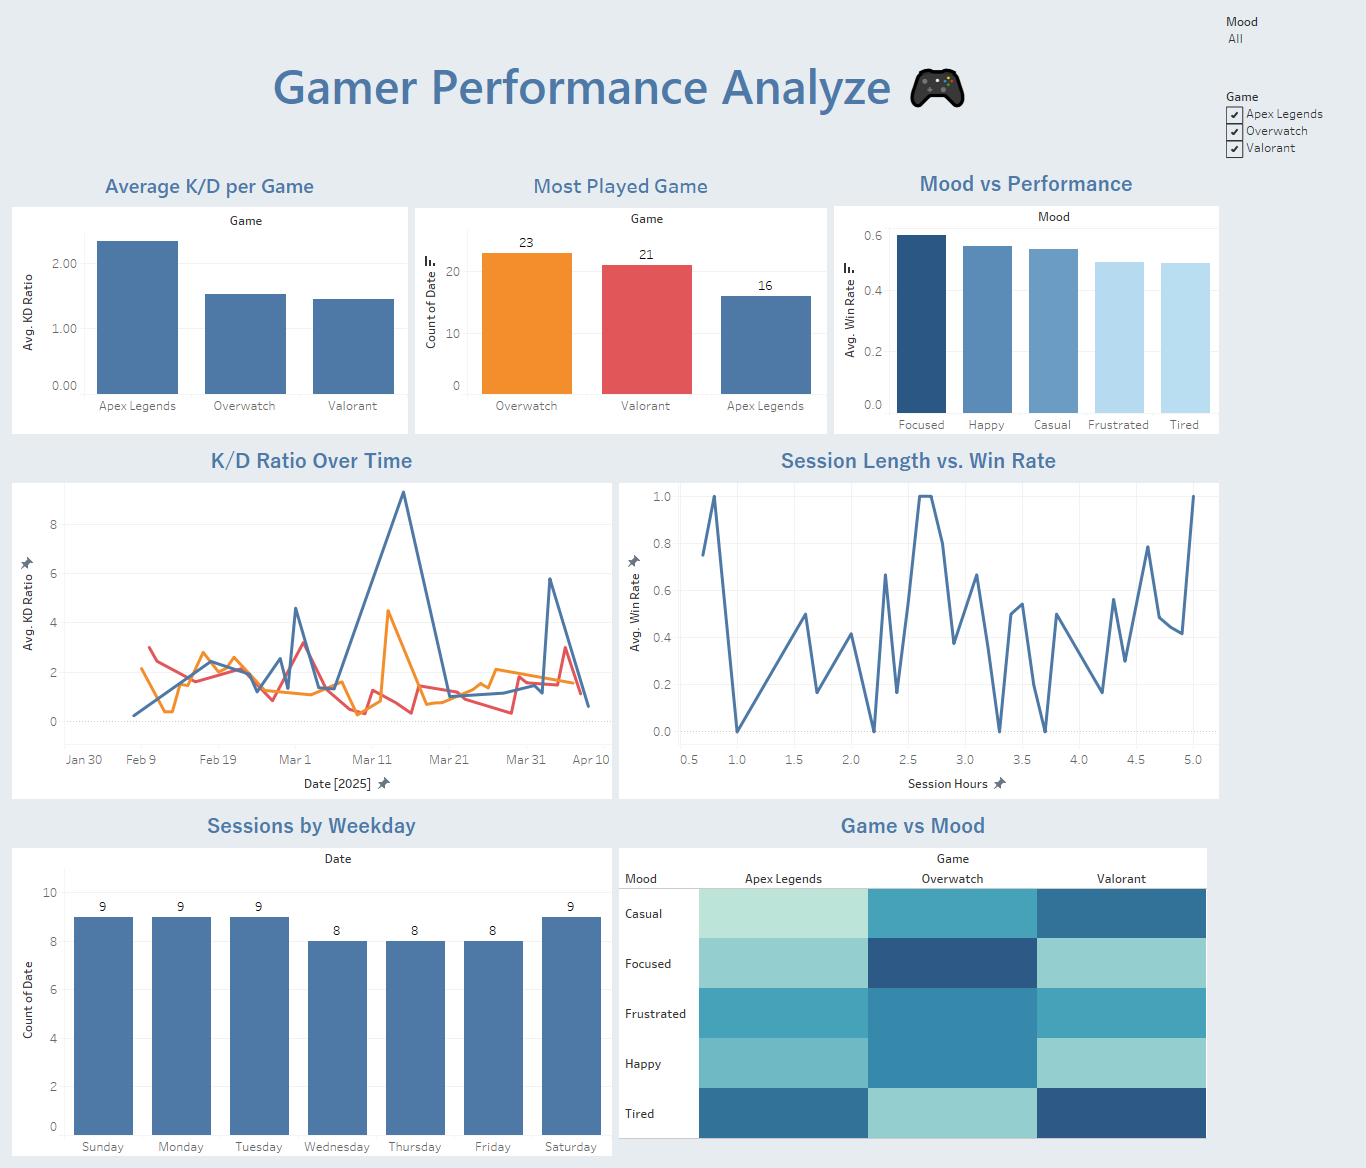

This screenshot's page, from the dashboard's own definition file:
{"tool":"tableau","page":{"name":"Gamer Performance Analyze","canvas":[1366,1168],"ordinal":0},"visuals":[{"type":"text","box":[8,8,1214,153]},{"type":"filter","title":"Mood vs Performance","param":"[federated.0pr3f080xap26t1eskaqs065o45d].[none:Mood:nk]","box":[1222,8,136,75]},{"type":"filter","title":"Most Played Game","param":"[federated.0pr3f080xap26t1eskaqs065o45d].[none:Game:nk]","box":[1222,83,136,117]},{"type":"worksheet","title":"Average K/D per Game","mark":"Automatic","rows":["KD_Ratio"],"cols":["Game"],"box":[8,161,403,277]},{"type":"worksheet","title":"Most Played Game","mark":"Automatic","rows":["Date"],"cols":["Game"],"box":[411,161,419.1,277]},{"type":"worksheet","title":"Mood vs Performance","mark":"Automatic","rows":["Calculation_1631991981035950080"],"cols":["Mood"],"box":[830.1,161,391.9,277]},{"type":"worksheet","title":"K/D Ratio Over Time","mark":"Automatic","rows":["KD_Ratio"],"cols":["Date"],"box":[8,438,607,364.9]},{"type":"worksheet","title":"Session Length vs. Win Rate","mark":"Automatic","rows":["Calculation_1631991981035950080"],"cols":["Session_Hours"],"box":[615,438,607,364.9]},{"type":"worksheet","title":"Sessions by Weekday","mark":"Bar","rows":["Date"],"cols":["Date"],"box":[8,802.9,607,357.1]},{"type":"worksheet","title":"Game vs Mood","mark":"Automatic","rows":["Mood"],"cols":["Game"],"box":[615,802.9,607,357.1]}]}

Visuals, with their boxes in screenshot pixels (x1, y1, x2, y2), scaled from the page's 1366x1168 canvas onto the 1366x1168 screenshot:
text: 8,8,1222,161
"Mood vs Performance" filter: 1222,8,1358,83
"Most Played Game" filter: 1222,83,1358,200
"Average K/D per Game" worksheet: 8,161,411,438
"Most Played Game" worksheet: 411,161,830,438
"Mood vs Performance" worksheet: 830,161,1222,438
"K/D Ratio Over Time" worksheet: 8,438,615,803
"Session Length vs. Win Rate" worksheet: 615,438,1222,803
"Sessions by Weekday" worksheet (Bar marks): 8,803,615,1160
"Game vs Mood" worksheet: 615,803,1222,1160
